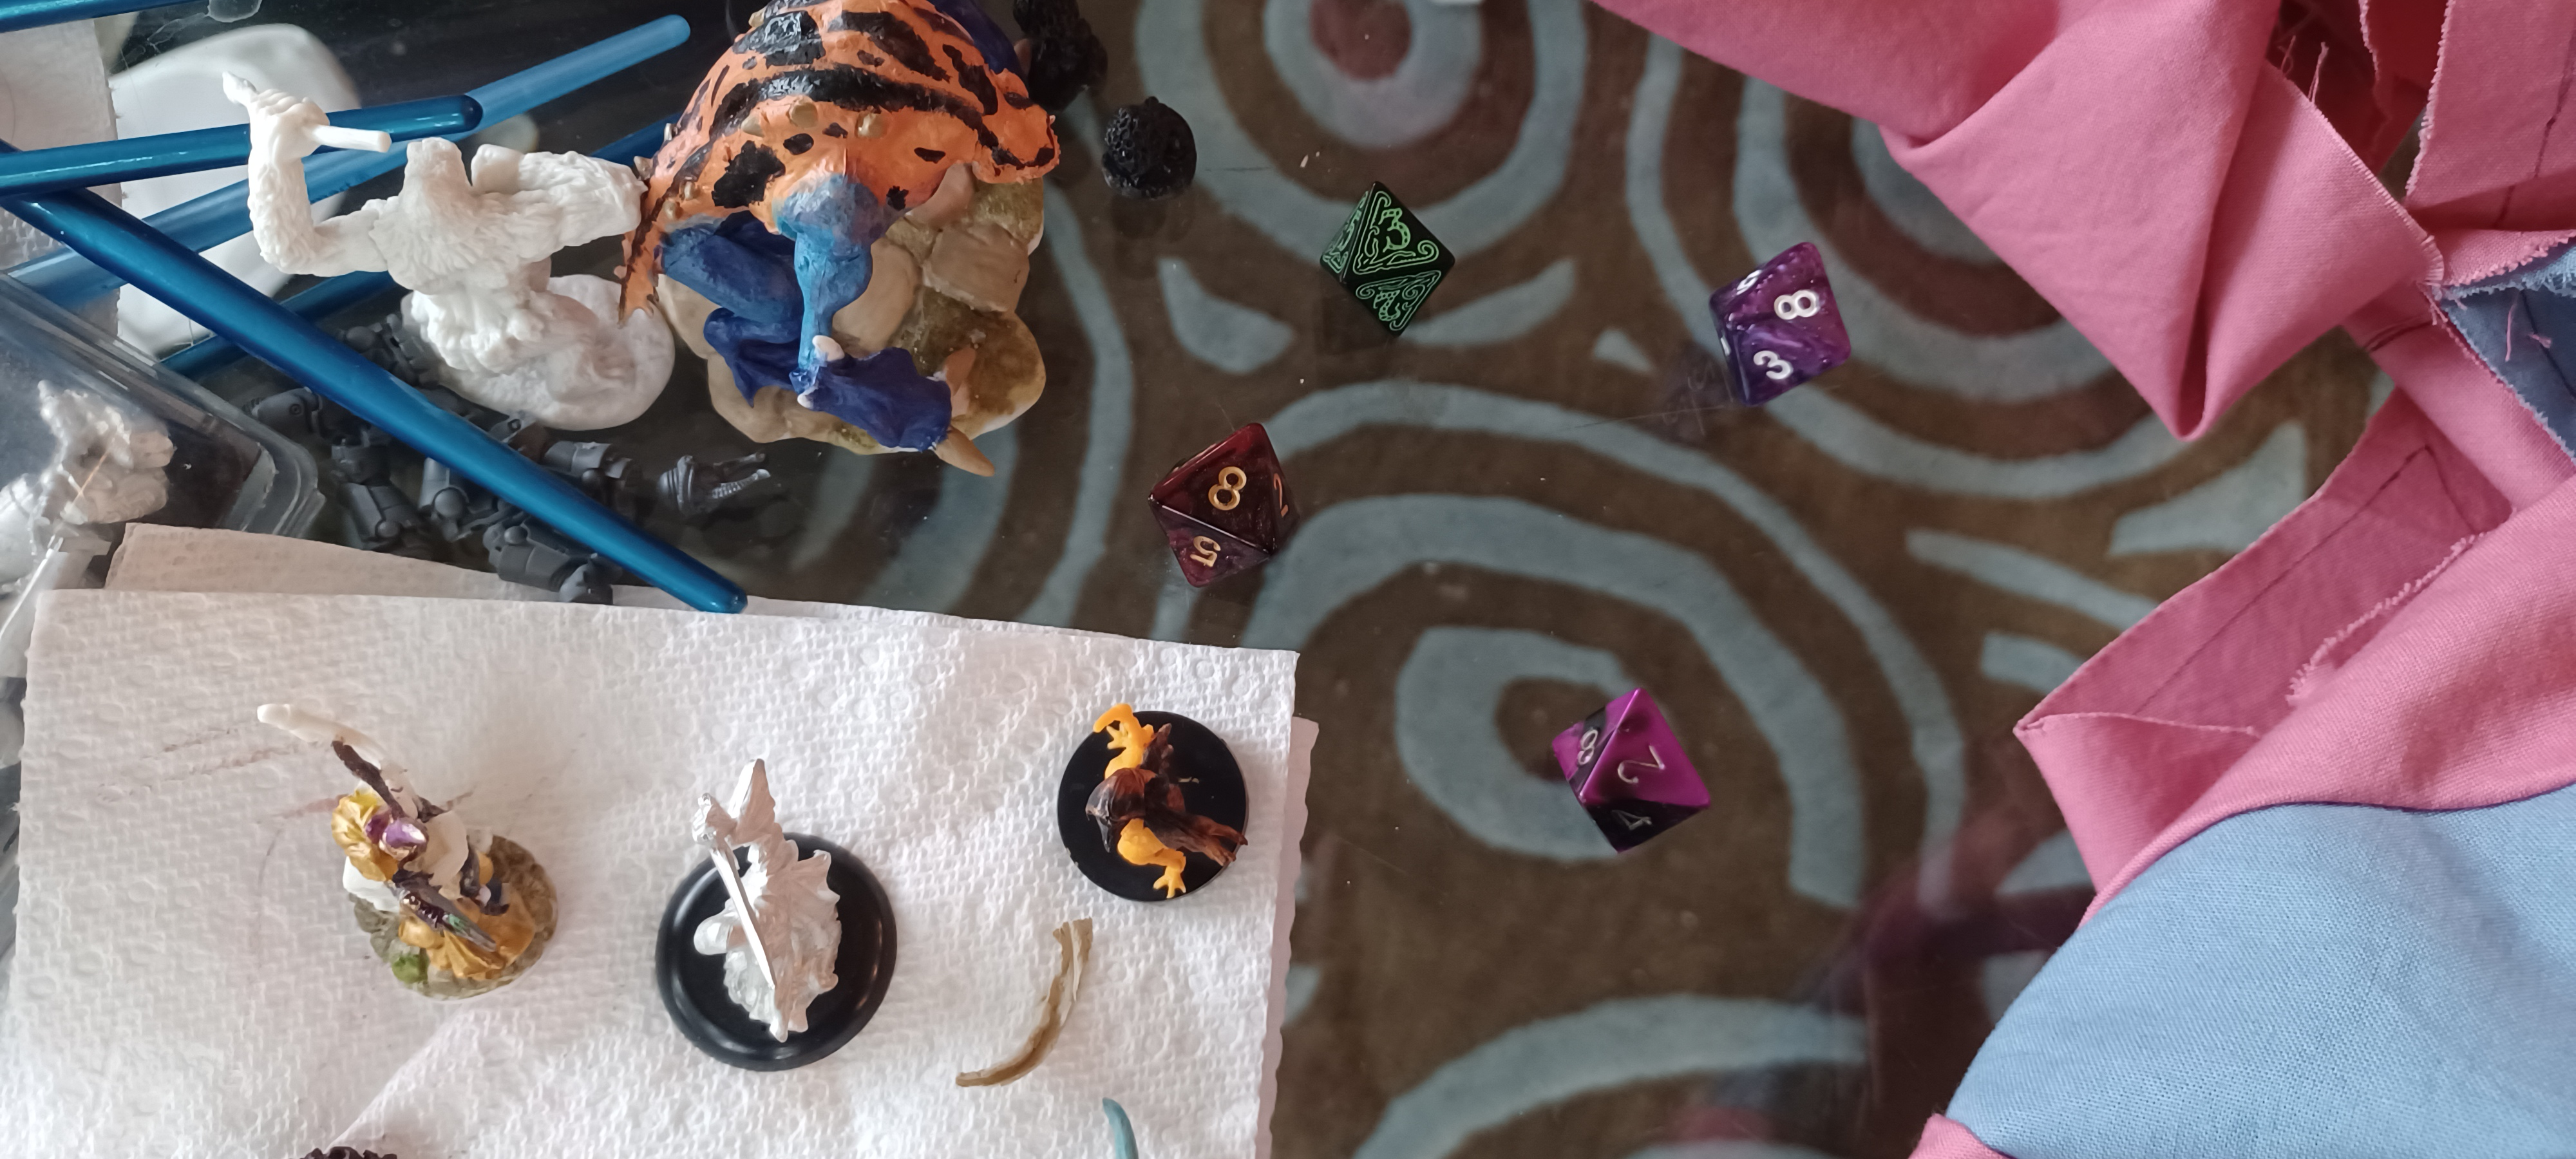eight: (1102, 397, 1344, 619), (1679, 223, 1889, 417)
three: (1280, 154, 1495, 358)
two: (1505, 653, 1743, 877)
